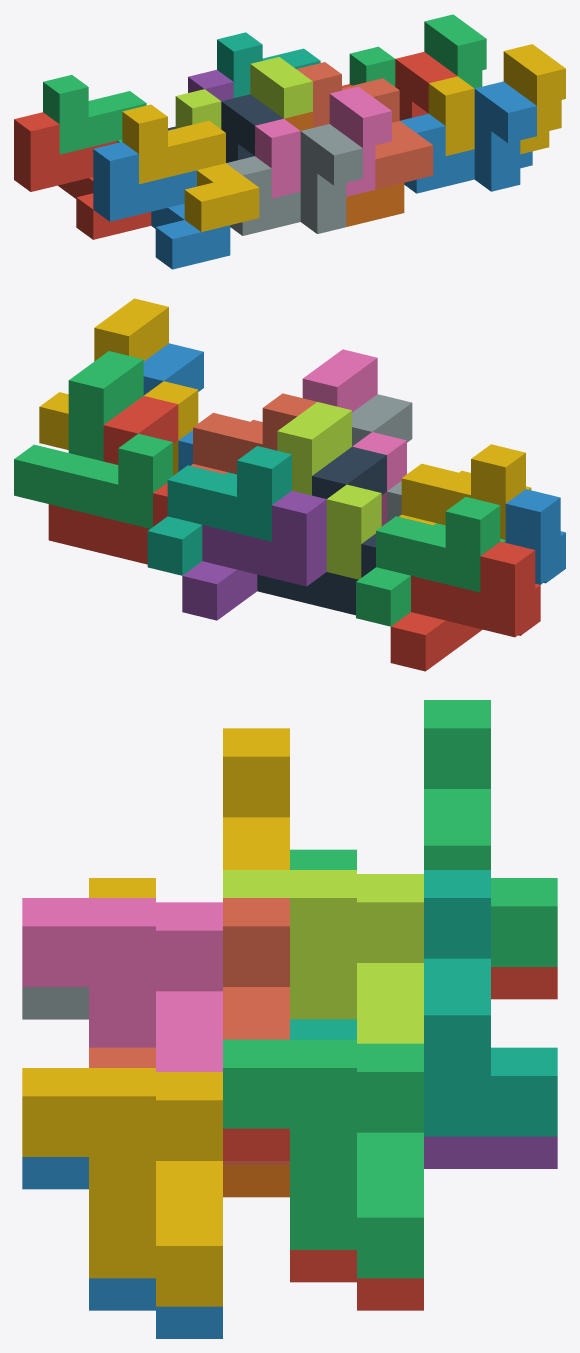
Rendered from tiling.obj.
3 renders of one model, top to bottom at view 1: azimuth 30°, elevation 25°; view 2: azimuth 150°, elevation 25°; view 3: azimuth 270°, elevation 25°, orthographic. The views are drawn at different scales.
Parts seen in each view (by area): view 1: copy_1_domain_4, copy_1_domain_2, copy_2_domain_6, copy_2_domain_2, copy_2_domain_8, copy_1_domain_1, copy_2_domain_4, copy_1_domain_8, copy_1_domain_3, copy_2_domain_7, copy_2_domain_3, copy_1_domain_7 (+4 smaller); view 2: copy_2_domain_7, copy_1_domain_1, copy_1_domain_5, copy_1_domain_3, copy_1_domain_7, copy_2_domain_3, copy_2_domain_5, copy_2_domain_8, copy_1_domain_4, copy_2_domain_1, copy_2_domain_4, copy_1_domain_8 (+3 smaller); view 3: copy_2_domain_7, copy_2_domain_8, copy_2_domain_4, copy_1_domain_7, copy_2_domain_3, copy_1_domain_3, copy_1_domain_8, copy_1_domain_4, copy_2_domain_5, copy_2_domain_6, copy_1_domain_5, copy_1_domain_1 (+2 smaller).
Part boxes in pixels (x1=…): copy_1_domain_4: x1=122, y1=104, x2=259, y2=231; copy_1_domain_2: x1=93, y1=142, x2=230, y2=269; copy_2_domain_6: x1=400, y1=81, x2=536, y2=193; copy_2_domain_2: x1=226, y1=124, x2=362, y2=235; copy_2_domain_8: x1=428, y1=44, x2=565, y2=155; copy_1_domain_1: x1=14, y1=112, x2=151, y2=239; copy_2_domain_4: x1=255, y1=86, x2=391, y2=198; copy_1_domain_8: x1=296, y1=62, x2=433, y2=189; copy_1_domain_3: x1=43, y1=75, x2=146, y2=154; copy_2_domain_7: x1=349, y1=14, x2=486, y2=88; copy_2_domain_3: x1=175, y1=57, x2=312, y2=128; copy_1_domain_7: x1=217, y1=32, x2=320, y2=97; copy_2_domain_7: x1=14, y1=351, x2=172, y2=528; copy_1_domain_1: x1=390, y1=541, x2=540, y2=671; copy_1_domain_5: x1=182, y1=491, x2=326, y2=620; copy_1_domain_3: x1=356, y1=497, x2=505, y2=626; copy_1_domain_7: x1=147, y1=446, x2=291, y2=575; copy_2_domain_3: x1=277, y1=402, x2=381, y2=579; copy_2_domain_5: x1=48, y1=396, x2=178, y2=564; copy_2_domain_8: x1=39, y1=298, x2=198, y2=475; copy_1_domain_4: x1=399, y1=444, x2=531, y2=539; copy_2_domain_1: x1=257, y1=446, x2=386, y2=615; copy_2_domain_4: x1=302, y1=349, x2=406, y2=526; copy_1_domain_8: x1=190, y1=393, x2=316, y2=474; copy_2_domain_7: x1=223, y1=1039, x2=423, y2=1278; copy_2_domain_8: x1=22, y1=1068, x2=222, y2=1306; copy_2_domain_4: x1=22, y1=898, x2=222, y2=1071; copy_1_domain_7: x1=290, y1=870, x2=557, y2=1136; copy_2_domain_3: x1=223, y1=870, x2=423, y2=1043; copy_1_domain_3: x1=290, y1=700, x2=557, y2=966; copy_1_domain_8: x1=89, y1=898, x2=289, y2=1164; copy_1_domain_4: x1=89, y1=728, x2=289, y2=897; copy_2_domain_5: x1=223, y1=1128, x2=423, y2=1310; copy_2_domain_6: x1=22, y1=1157, x2=222, y2=1338; copy_1_domain_5: x1=424, y1=1136, x2=557, y2=1168; copy_1_domain_1: x1=491, y1=967, x2=557, y2=999.
Size of the model in its own units: 16 by 4 by 8.
